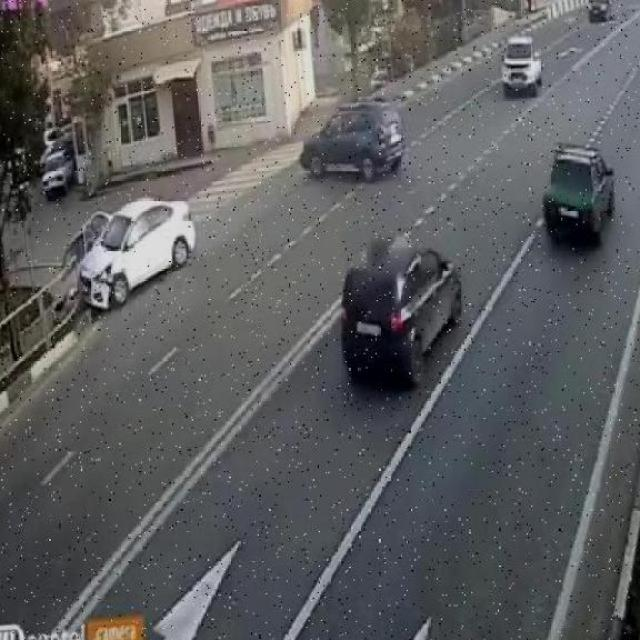accident: (55, 190, 205, 319)
